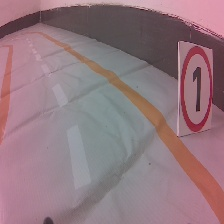limit: (176, 38, 216, 140)
